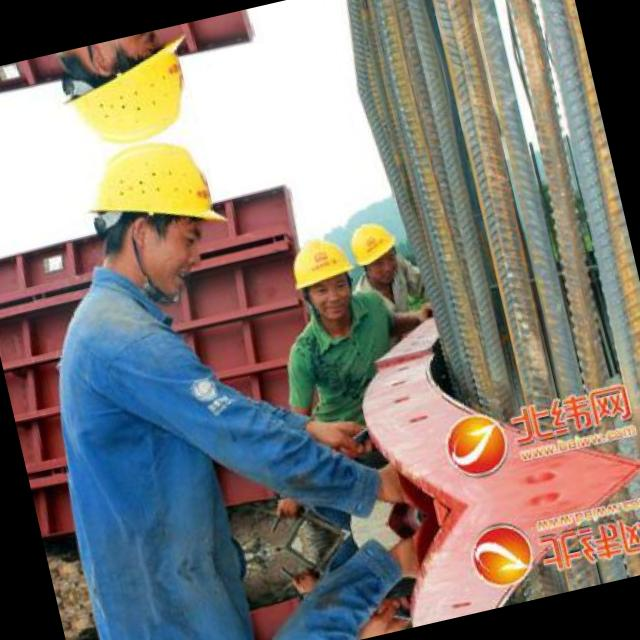helmet: (59, 125, 251, 316), (35, 21, 217, 162), (282, 220, 365, 326), (428, 402, 520, 494), (452, 506, 544, 598), (340, 210, 408, 290)
